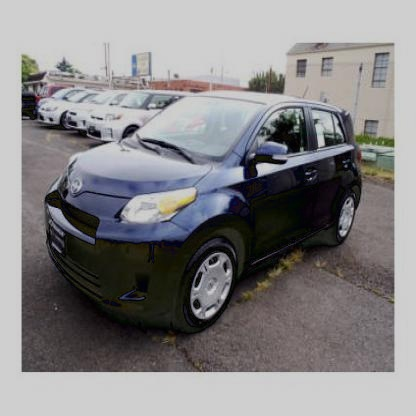Vehicle: (43, 89, 365, 334)
